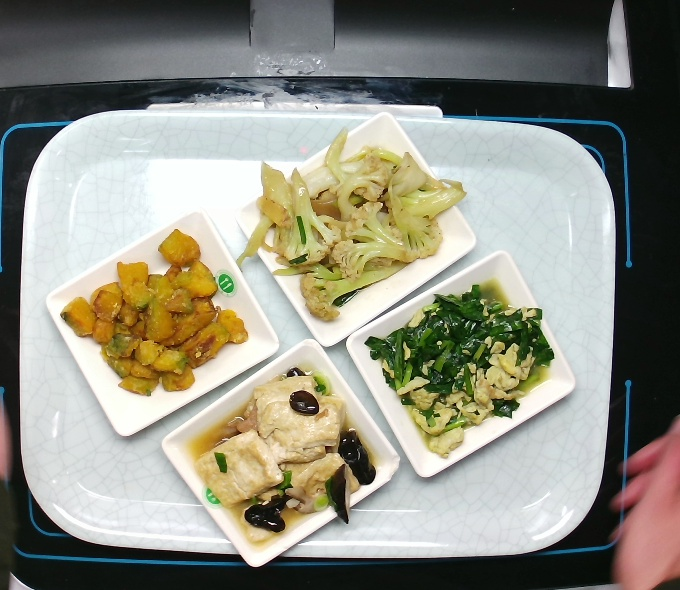wcq-DanHuangNanGua: (58, 227, 247, 401)
wcq-JiaChangDouFu: (189, 365, 378, 539)
wcq-JiuCaiJiDan: (353, 281, 568, 462)
wcq-QiuCai: (247, 144, 468, 318)
